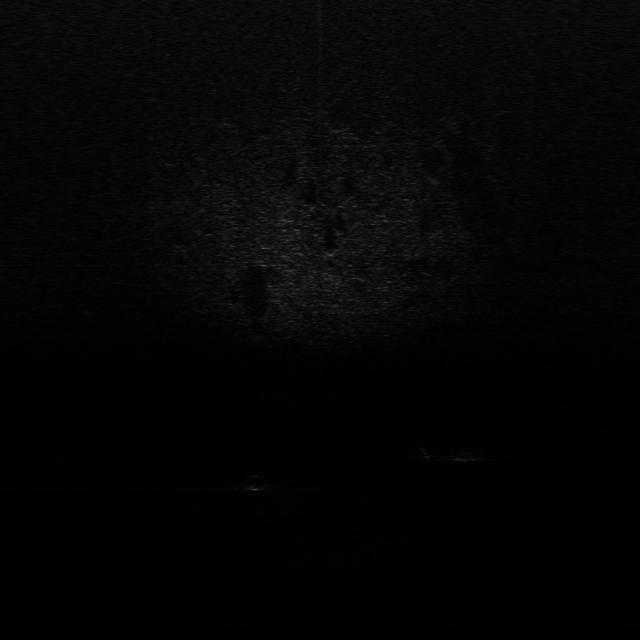ball: (244, 472, 270, 493)
human body: (414, 443, 502, 465)
